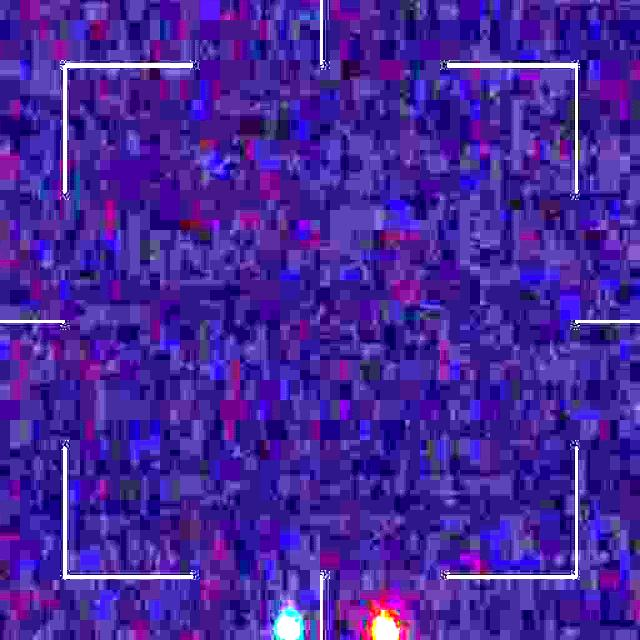bird: (279, 611, 398, 640)
